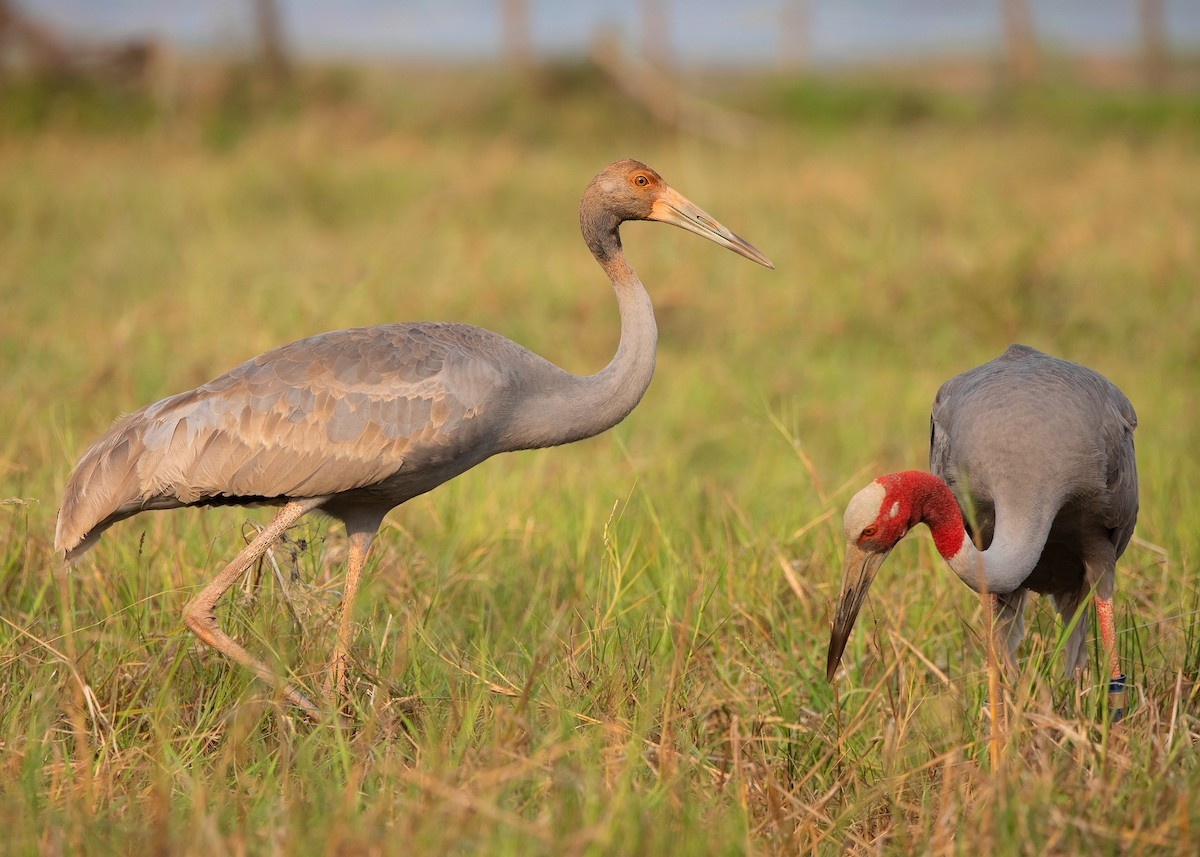crane: (47, 156, 778, 714), (803, 341, 1178, 710)
